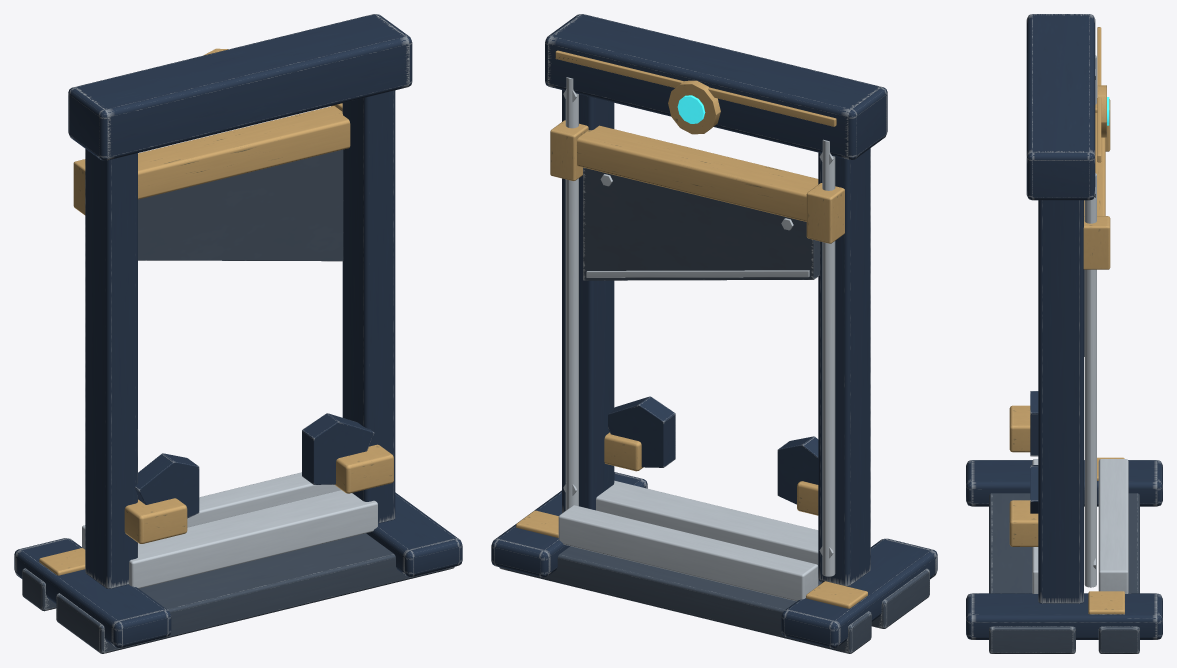
File: guillotine_lock.glb
3 renders of one model, left to right at view 1: azimuth 30°, elevation 25°; view 2: azimuth 150°, elevation 25°; view 3: azimuth 270°, elevation 25°, orthographic. The views are drawn at different scales.
Parts seen in each view (by area): view 1: v2_guillotine_lock__crown, v2_guillotine_lock__column_neg1, v2_guillotine_lock__column_1, v2_guillotine_lock__falling_blade, v2_guillotine_lock__ground_rear, v2_guillotine_lock__anvil_rear, v2_guillotine_lock__carriage, v2_guillotine_lock__foot_neg1, v2_guillotine_lock__foot_1, v2_guillotine_lock__anvil_front, v2_guillotine_lock__clamp_jaw_1, v2_guillotine_lock__clamp_jaw_neg1 (+5 smaller); view 2: v2_guillotine_lock__crown, v2_guillotine_lock__falling_blade, v2_guillotine_lock__column_neg1, v2_guillotine_lock__anvil_front, v2_guillotine_lock__carriage, v2_guillotine_lock__column_1, v2_guillotine_lock__ground_front, v2_guillotine_lock__anvil_rear, v2_guillotine_lock__foot_neg1, v2_guillotine_lock__guide_neg1, v2_guillotine_lock__guide_1, v2_guillotine_lock__foot_1 (+12 smaller); view 3: v2_guillotine_lock__column_1, v2_guillotine_lock__crown, v2_guillotine_lock__foot_1, v2_guillotine_lock__ground_rear, v2_guillotine_lock__guide_1, v2_guillotine_lock__anvil_front, v2_guillotine_lock__foot_neg1, v2_guillotine_lock__ground_front, v2_guillotine_lock__runner_1, v2_guillotine_lock__clamp_slide_1, v2_guillotine_lock__clamp_slide_neg1, v2_guillotine_lock__foot_trim_1 (+6 smaller).
Part boxes in pixels (x1=…): v2_guillotine_lock__crown: x1=68, y1=14, x2=412, y2=160; v2_guillotine_lock__column_neg1: x1=85, y1=149, x2=137, y2=588; v2_guillotine_lock__column_1: x1=342, y1=90, x2=395, y2=523; v2_guillotine_lock__falling_blade: x1=138, y1=149, x2=343, y2=261; v2_guillotine_lock__ground_rear: x1=56, y1=533, x2=454, y2=653; v2_guillotine_lock__anvil_rear: x1=129, y1=490, x2=377, y2=588; v2_guillotine_lock__carriage: x1=138, y1=106, x2=350, y2=199; v2_guillotine_lock__foot_neg1: x1=14, y1=538, x2=171, y2=647; v2_guillotine_lock__foot_1: x1=366, y1=492, x2=462, y2=576; v2_guillotine_lock__anvil_front: x1=82, y1=472, x2=340, y2=549; v2_guillotine_lock__clamp_jaw_1: x1=302, y1=413, x2=374, y2=484; v2_guillotine_lock__clamp_jaw_neg1: x1=134, y1=453, x2=199, y2=518; v2_guillotine_lock__crown: x1=545, y1=14, x2=887, y2=159; v2_guillotine_lock__falling_blade: x1=583, y1=167, x2=819, y2=280; v2_guillotine_lock__column_neg1: x1=818, y1=148, x2=870, y2=586; v2_guillotine_lock__anvil_front: x1=558, y1=505, x2=818, y2=601; v2_guillotine_lock__carriage: x1=577, y1=125, x2=818, y2=221; v2_guillotine_lock__column_1: x1=562, y1=90, x2=614, y2=512; v2_guillotine_lock__ground_front: x1=499, y1=546, x2=871, y2=653; v2_guillotine_lock__anvil_rear: x1=596, y1=480, x2=818, y2=565; v2_guillotine_lock__foot_neg1: x1=781, y1=538, x2=937, y2=648; v2_guillotine_lock__guide_neg1: x1=822, y1=139, x2=835, y2=576; v2_guillotine_lock__guide_1: x1=565, y1=77, x2=578, y2=510; v2_guillotine_lock__foot_1: x1=491, y1=472, x2=647, y2=577; v2_guillotine_lock__column_1: x1=1038, y1=200, x2=1083, y2=603; v2_guillotine_lock__crown: x1=1026, y1=14, x2=1095, y2=200; v2_guillotine_lock__foot_1: x1=966, y1=593, x2=1162, y2=639; v2_guillotine_lock__ground_rear: x1=989, y1=493, x2=1075, y2=653; v2_guillotine_lock__guide_1: x1=1084, y1=173, x2=1096, y2=587; v2_guillotine_lock__anvil_front: x1=1098, y1=459, x2=1128, y2=593; v2_guillotine_lock__foot_neg1: x1=966, y1=460, x2=1162, y2=506; v2_guillotine_lock__ground_front: x1=1098, y1=493, x2=1139, y2=653; v2_guillotine_lock__runner_1: x1=1083, y1=216, x2=1110, y2=269; v2_guillotine_lock__clamp_slide_1: x1=1009, y1=500, x2=1038, y2=546; v2_guillotine_lock__clamp_slide_neg1: x1=1009, y1=405, x2=1030, y2=452; v2_guillotine_lock__foot_trim_1: x1=1088, y1=591, x2=1124, y2=614.
Bounding box in the file's own units: 1.68 × 2.37 × 0.86.
Materials: 2 (2 with a texture image).
